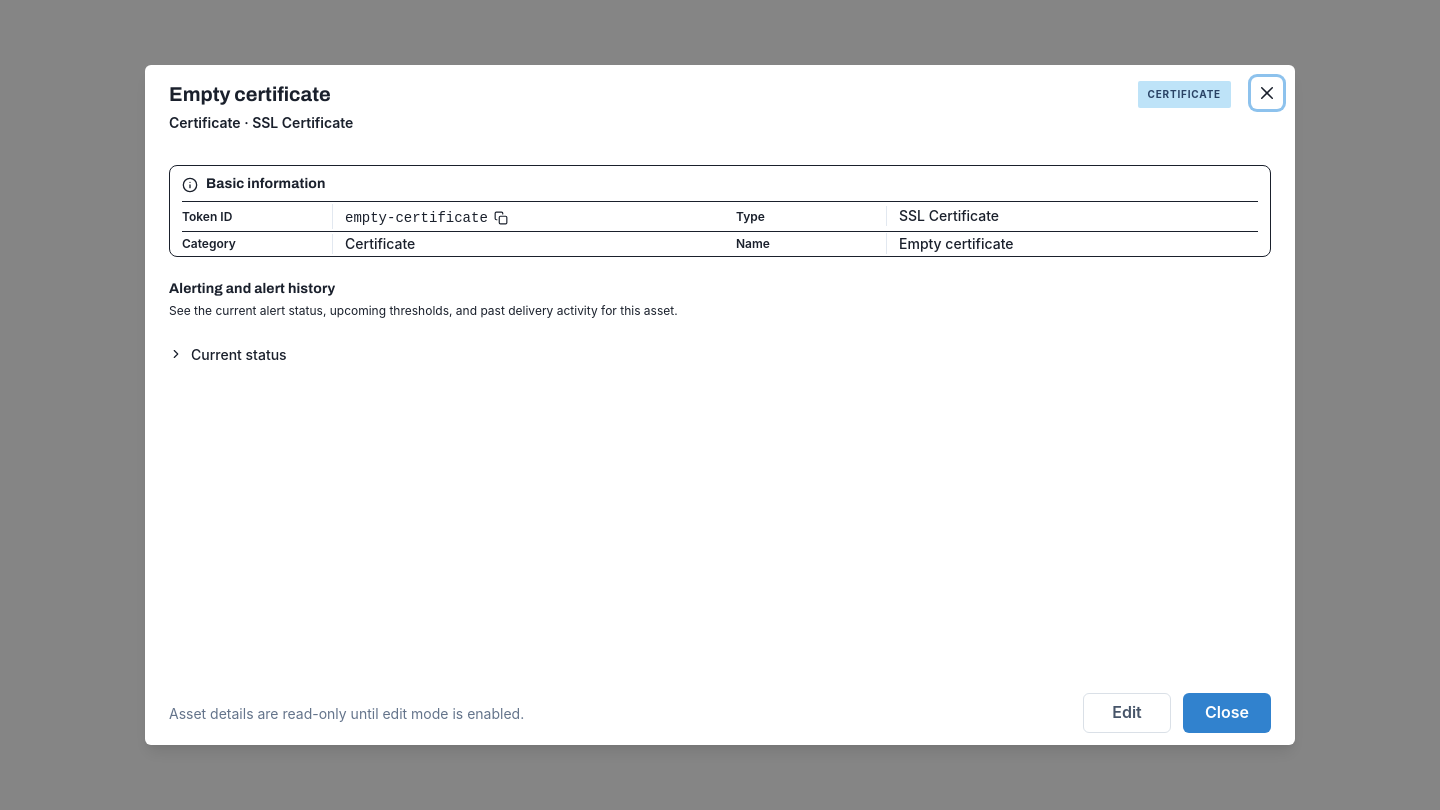
Test: CertificateDetailsModal › keeps empty editable asset fields available after entering edit mode
Expected: the heading "Certificate details" is not shown
Click the button "Edit": coordinates (1127, 713) 1083,693 -> 1171,733
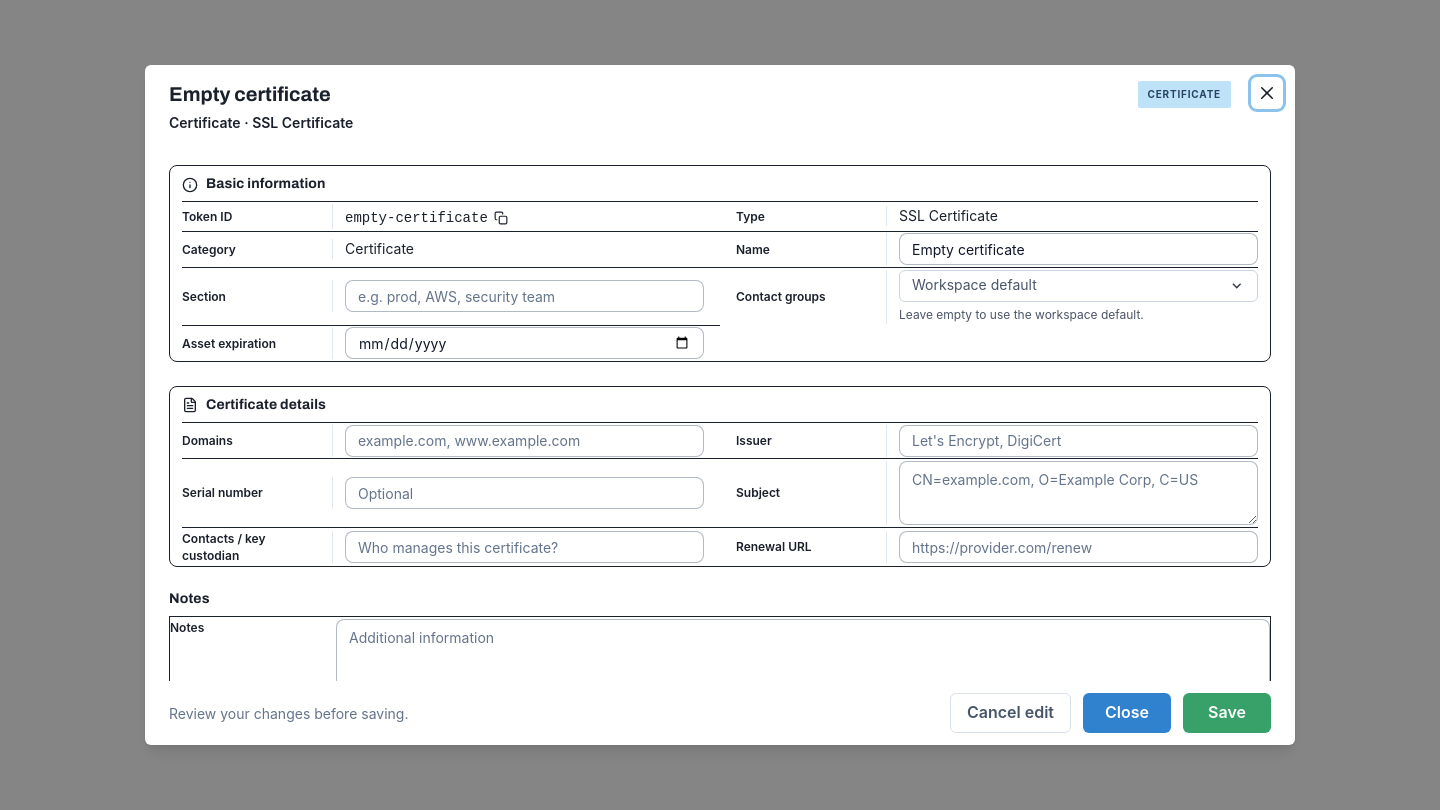
Now the text "Section" is shown, box 182,289 -> 226,304
Now the text "Contact groups" is shown, box 736,289 -> 826,304
Now the heading "Certificate details" is shown, box 206,397 -> 326,414
